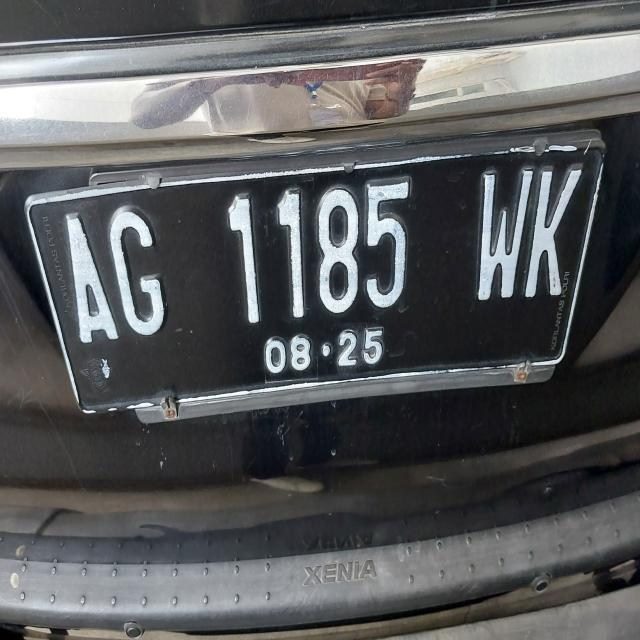1: (271, 176, 315, 338), (218, 192, 268, 325)
5: (364, 174, 412, 321)
8: (314, 180, 363, 315)
A: (53, 208, 119, 350)
G: (105, 203, 178, 335)
K: (531, 165, 586, 305)
W: (472, 164, 532, 308)
